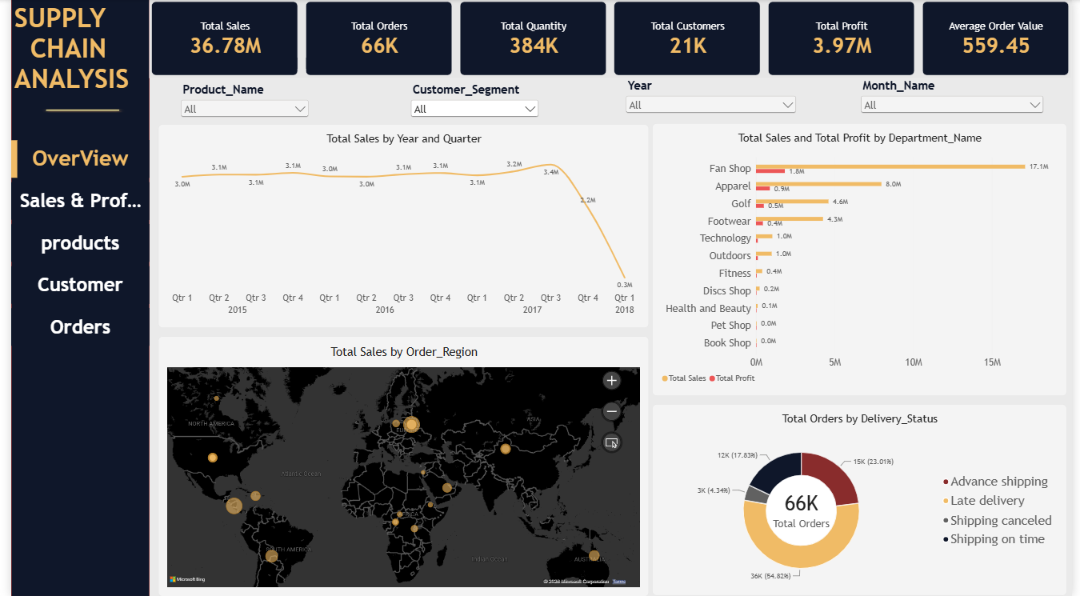

Layout of this report page (visuals, bound fields, positions):
{"tool":"powerbi","page":{"name":"OverView","canvas":[1920,1080],"ordinal":0},"visuals":[{"type":"shape","box":[0,0,250,1081],"z":0},{"type":"textbox","box":[5.5,5.5,244.3,199.1],"z":1},{"type":"pageNavigator","box":[0,254.8,250,376.2],"z":2},{"type":"shape","box":[54.3,191.8,150.2,12.7],"z":3},{"type":"cardVisual","fields":{"Data":["Table.Total Sales","Table.Total Orders","Table.Total Quantity","Table.Total Customers","Table.Total Profit","Table.Average Order Value"]},"box":[250,0,1669,142.9],"z":4},{"type":"slicer","fields":{"Values":["DimProduct.Product_Name"]},"box":[302.4,150,240.9,257.5],"z":8},{"type":"slicer","fields":{"Values":["DimCustomer.Customer_Segment"]},"box":[719,150,240.9,257.5],"z":9},{"type":"slicer","fields":{"Values":["Date.Year"]},"box":[1107.1,142.9,318.2,257.5],"z":10},{"type":"slicer","fields":{"Values":["Date.Month_Name"]},"box":[1532,143.4,340.2,95.6],"z":11},{"type":"lineChart","fields":{"Category":["Date.Date.Variation.Date Hierarchy.Year","Date.Date.Variation.Date Hierarchy.Quarter","Date.Date.Variation.Date Hierarchy.Month"],"Y":["Table.Total Sales"]},"box":[266.7,226.2,888.1,369],"z":12},{"type":"clusteredBarChart","fields":{"Category":["DimProduct.Department_Name"],"Y":["Table.Total Sales","Table.Total Profit"]},"box":[1160,225,750,493.3],"z":13},{"type":"donutChart","fields":{"Series":["Dim_Delivery_Statuses.Delivery_Status"],"Y":["Table.Total Orders"]},"box":[1160,733.3,750,346.7],"z":15},{"type":"map","fields":{"Category":["Fact_Table.Order_Region"],"Size":["Table.Total Sales"]},"box":[266.7,609.5,888.1,471.4],"z":17}]}

Visuals, with their boxes in screenshot pixels (x1, y1, x2, y2), scaled from the page's 1920x1080 canvas onto the 1080x596 screenshot:
shape: pyautogui.locateOnScreen(0, 0, 141, 595)
textbox: pyautogui.locateOnScreen(3, 3, 141, 113)
pageNavigator: pyautogui.locateOnScreen(0, 141, 141, 348)
shape: pyautogui.locateOnScreen(31, 106, 115, 113)
cardVisual - Table.Total Sales x Table.Total Orders: pyautogui.locateOnScreen(141, 0, 1079, 79)
slicer - DimProduct.Product_Name: pyautogui.locateOnScreen(170, 83, 306, 225)
slicer - DimCustomer.Customer_Segment: pyautogui.locateOnScreen(404, 83, 540, 225)
slicer - Date.Year: pyautogui.locateOnScreen(623, 79, 802, 221)
slicer - Date.Month_Name: pyautogui.locateOnScreen(862, 79, 1053, 132)
lineChart - Date.Date.Variation.Date Hierarchy.Year x Date.Date.Variation.Date Hierarchy.Quarter: pyautogui.locateOnScreen(150, 125, 650, 328)
clusteredBarChart - DimProduct.Department_Name x Table.Total Sales: pyautogui.locateOnScreen(652, 124, 1074, 396)
donutChart - Dim_Delivery_Statuses.Delivery_Status x Table.Total Orders: pyautogui.locateOnScreen(652, 405, 1074, 595)
map - Fact_Table.Order_Region x Table.Total Sales: pyautogui.locateOnScreen(150, 336, 650, 595)
